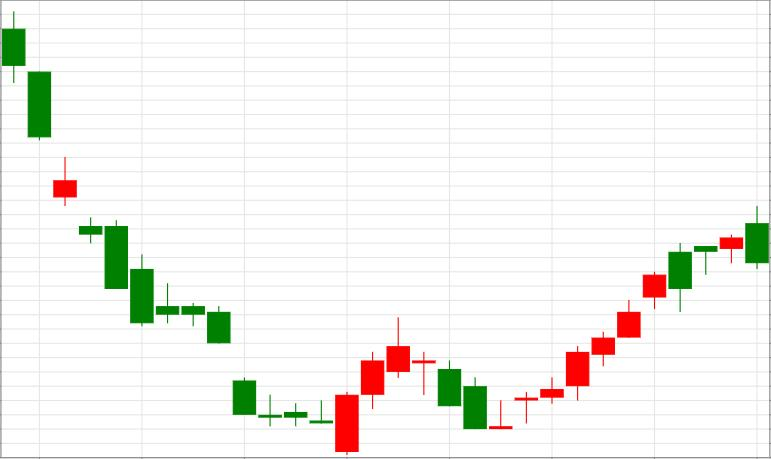bearish_engulfing_fall: (488, 205, 769, 430)
shooting_star_fall: (309, 316, 410, 456)
